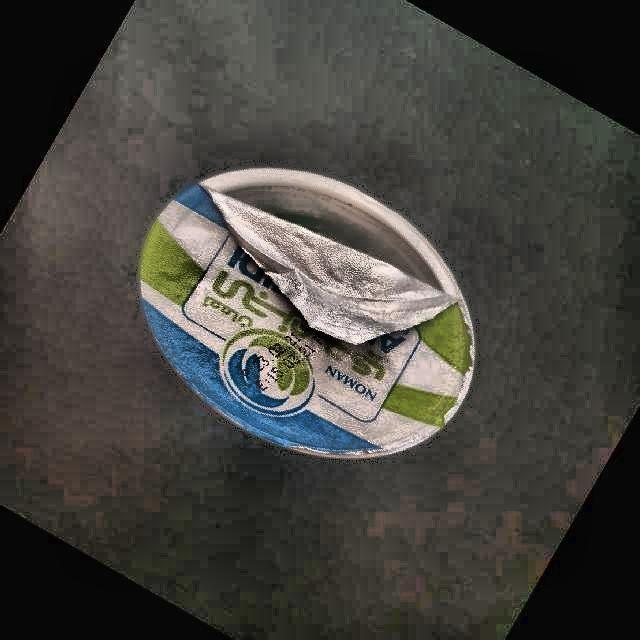plastic: (140, 168, 474, 459)
